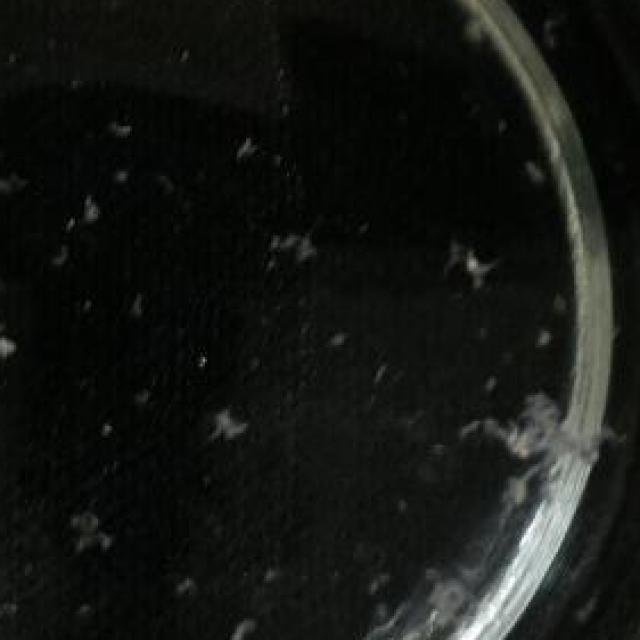Microplastic: (456, 376, 636, 495), (48, 466, 118, 550), (503, 133, 574, 205), (446, 221, 508, 302), (421, 568, 489, 640), (191, 392, 246, 476), (258, 221, 330, 281), (214, 119, 289, 171), (66, 188, 121, 247), (457, 0, 512, 52), (226, 602, 280, 640), (0, 295, 16, 369), (0, 586, 23, 636), (369, 352, 394, 393), (528, 324, 558, 352), (175, 576, 203, 602), (0, 164, 23, 195), (258, 562, 282, 590), (552, 283, 570, 319), (114, 102, 134, 128), (328, 324, 346, 352), (109, 160, 130, 183)
